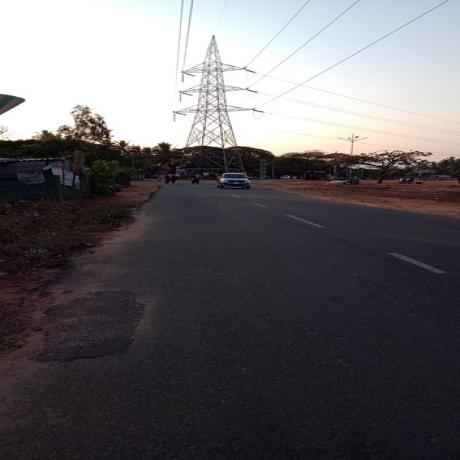Speed Bump: (149, 181, 271, 185)
